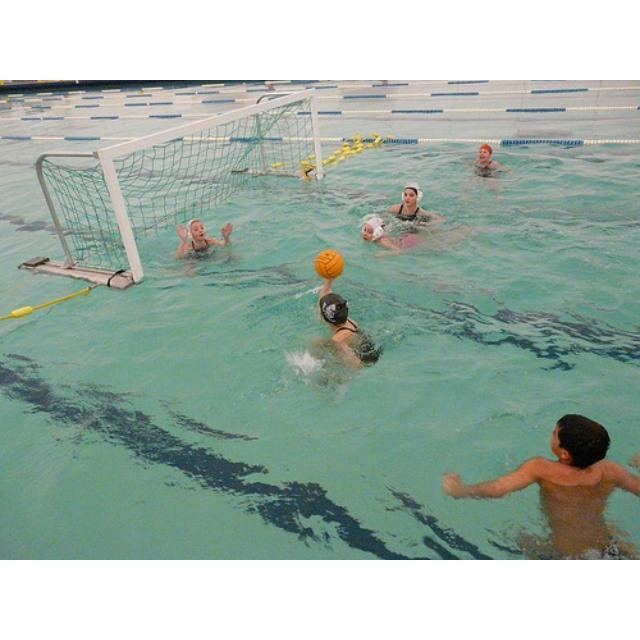human: (440, 404, 639, 560), (306, 277, 378, 374), (175, 219, 239, 263), (358, 211, 416, 258), (392, 184, 434, 222), (470, 143, 508, 182)
